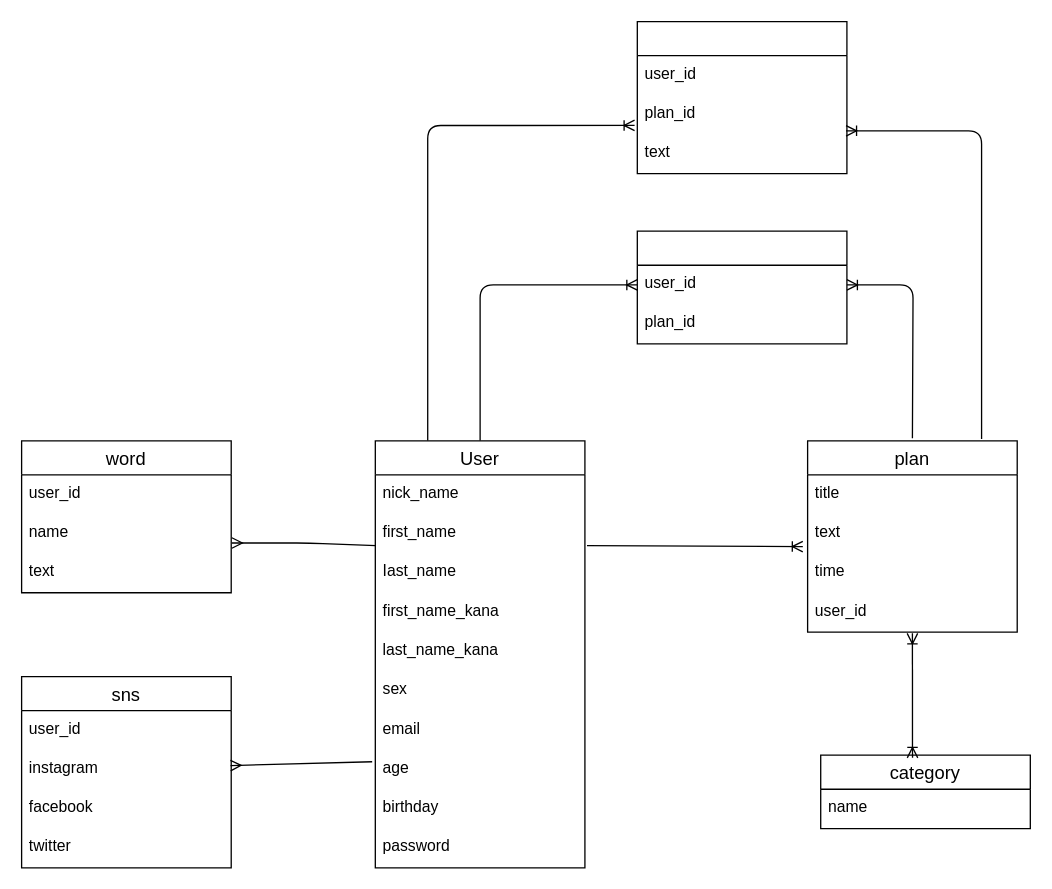
This 1052x889 diagram has some shape labels left out. The box of each missing label's shape, as (x1, y1, x2, y2) in pixels:
comment(中間）: (636, 20, 847, 174)
like（中間）: (636, 230, 847, 344)
